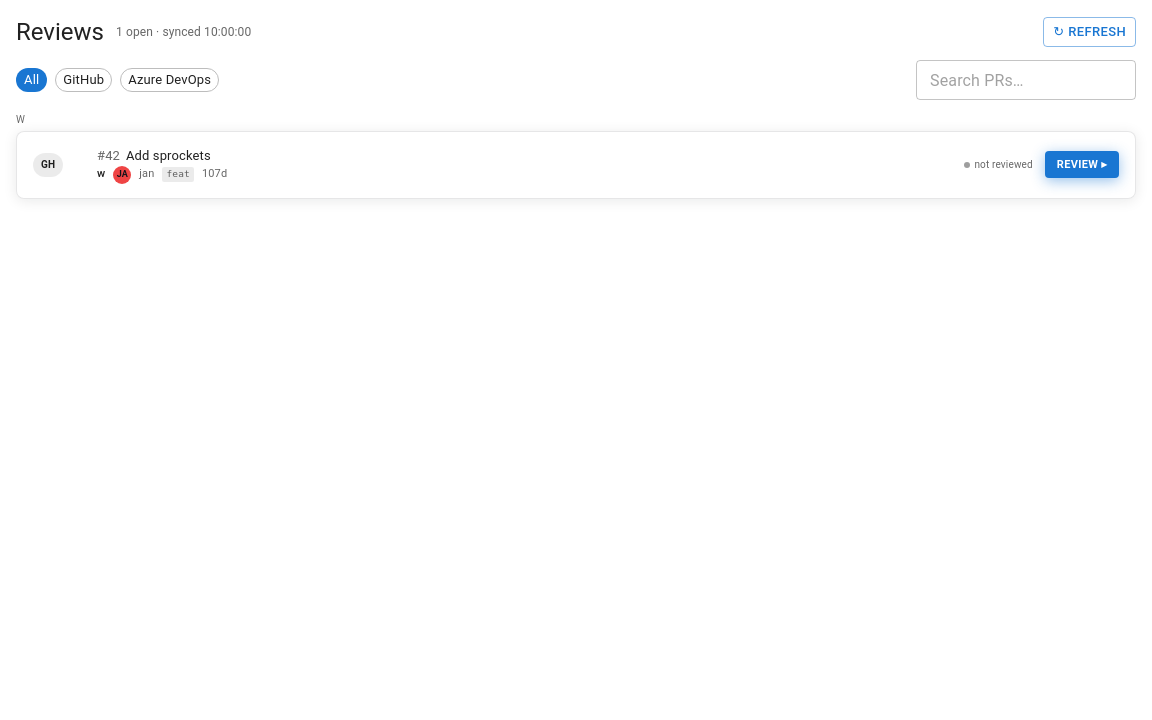
Test: ModuleReviews merge button › renders the Merge button fed from prs:reviewState, even when the PR is not in the watch inbox
The image size is (1152, 720).
# Wait for the PR row to load, then open its drawer.
Click the text "Add sprockets" at (154, 156), box [97,148,211,163]
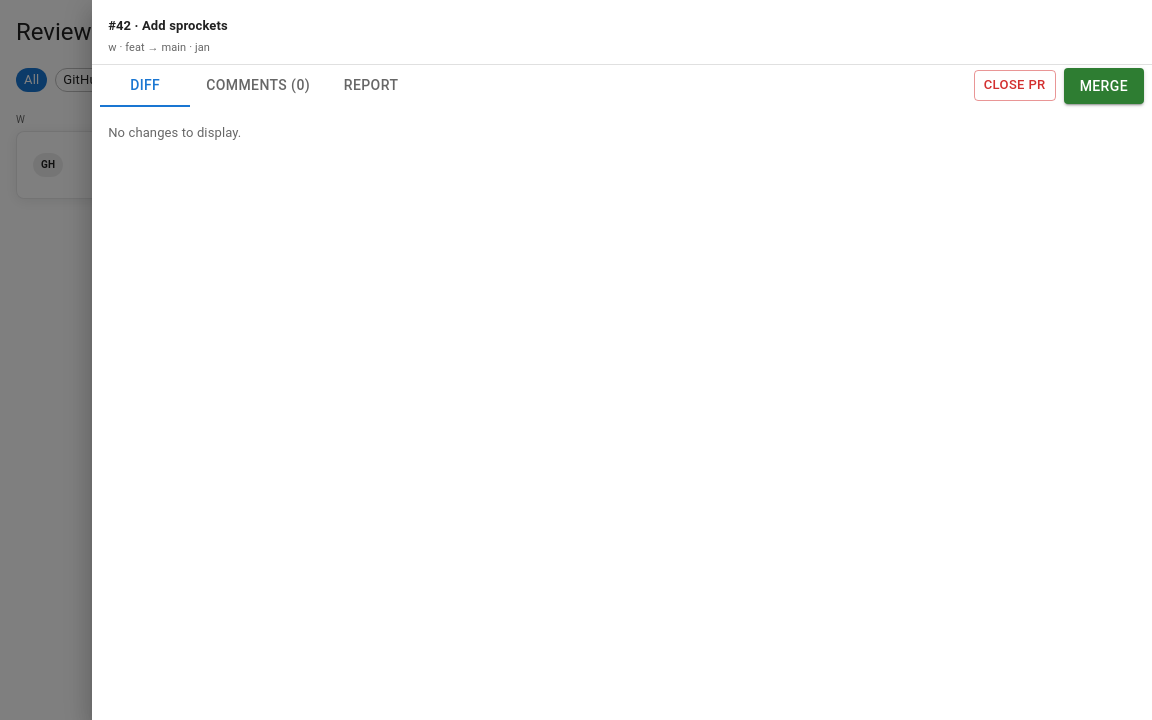
Result: the button "Merge" is shown at [1064,68,1144,104]
